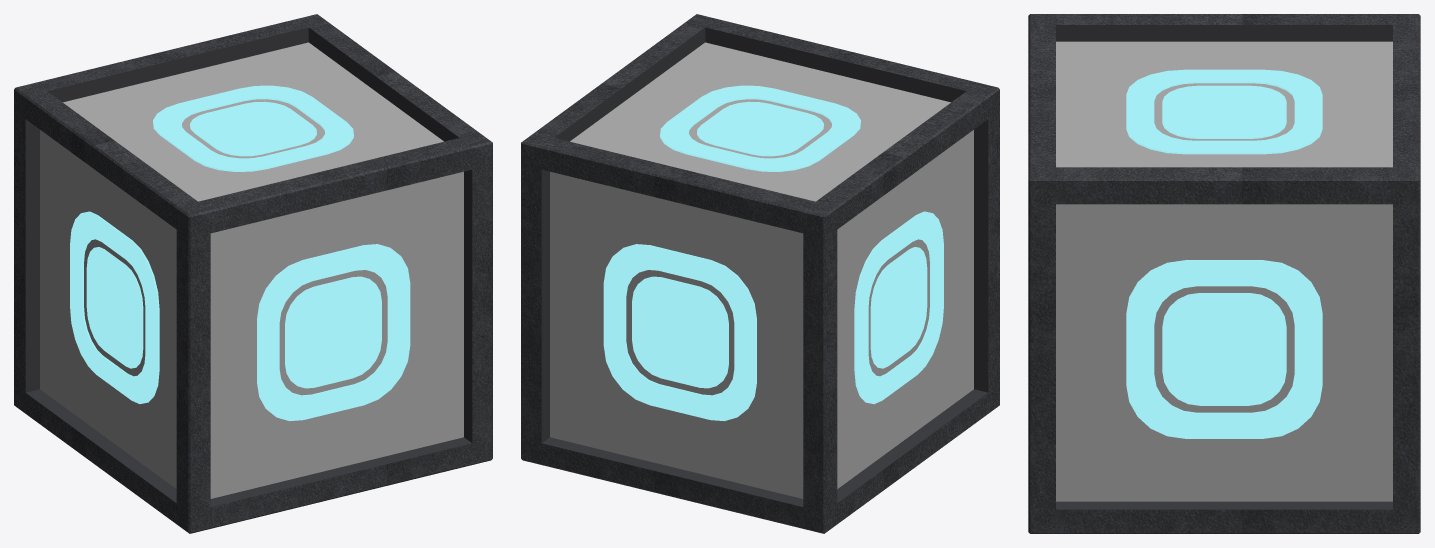
3 renders of one model, left to right at view 1: azimuth 30°, elevation 25°; view 2: azimuth 150°, elevation 25°; view 3: azimuth 270°, elevation 25°, orthographic. The views are drawn at different scales.
Visible parts, largest first — view 1: Cube; view 2: Cube; view 3: Cube.
Part boxes in pixels (box(x1,y1,x2,y2)): Cube: box(14, 14, 492, 533); Cube: box(521, 14, 999, 533); Cube: box(1028, 14, 1420, 533).
Bounding box in the file's own units: 2 × 2 × 2.
3 materials, 2 textured.
